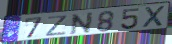5: (120, 7, 141, 30)
7: (24, 16, 44, 39)
8: (97, 10, 116, 32)
N: (70, 11, 95, 36)
X: (143, 5, 168, 29)
Z: (45, 14, 69, 37)
